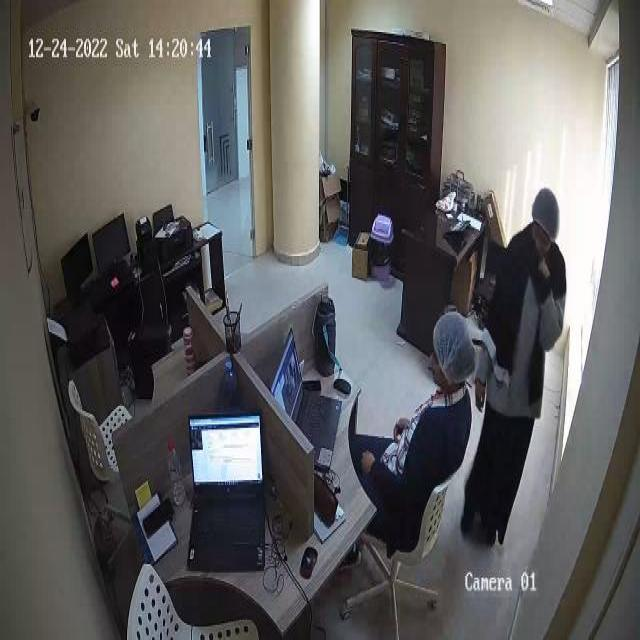hairnet: (436, 314, 474, 385), (533, 185, 561, 238)
